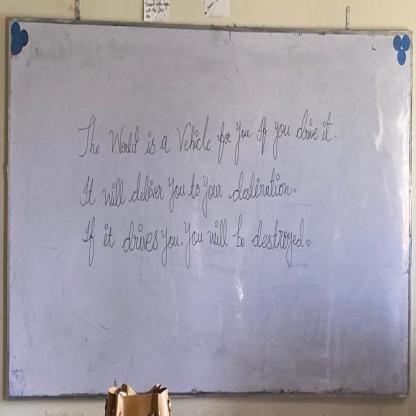Handwritten text: (75, 103, 334, 166), (80, 216, 308, 272), (79, 167, 293, 218)
Whiteboard: (4, 15, 414, 405)
